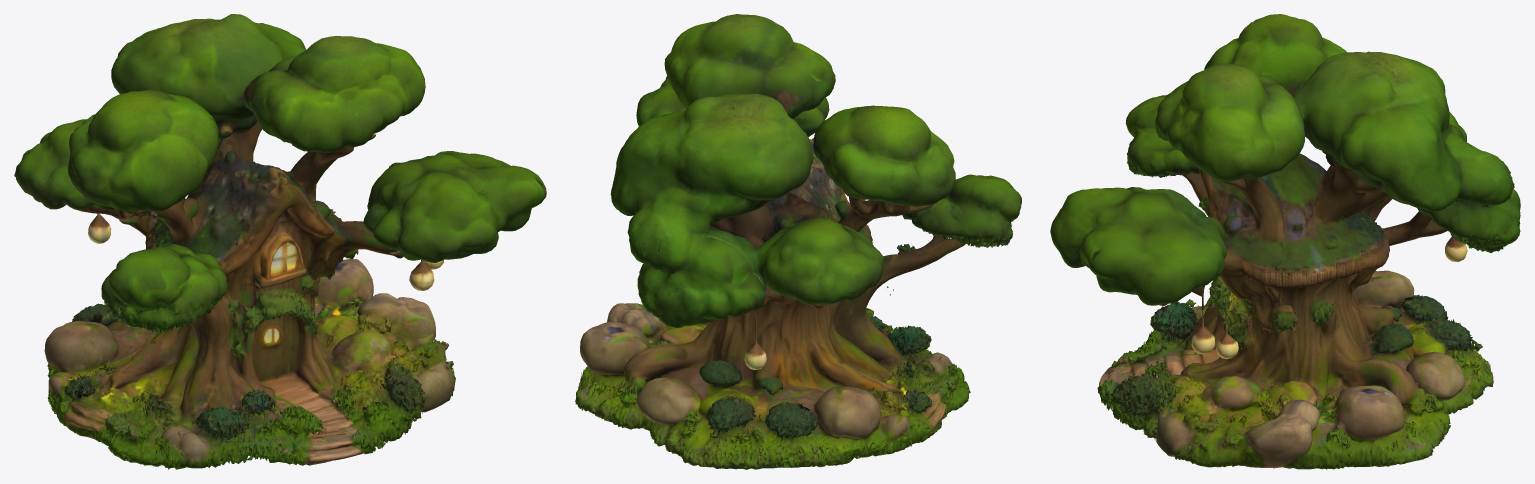
Rendered from giant-tree.glb.
3 renders of one model, left to right at view 1: azimuth 30°, elevation 25°; view 2: azimuth 150°, elevation 25°; view 3: azimuth 270°, elevation 25°, orthographic. The views are drawn at different scales.
Size of the model in its own units: 1.93 by 1.63 by 1.98.
1 material, 1 textured.
